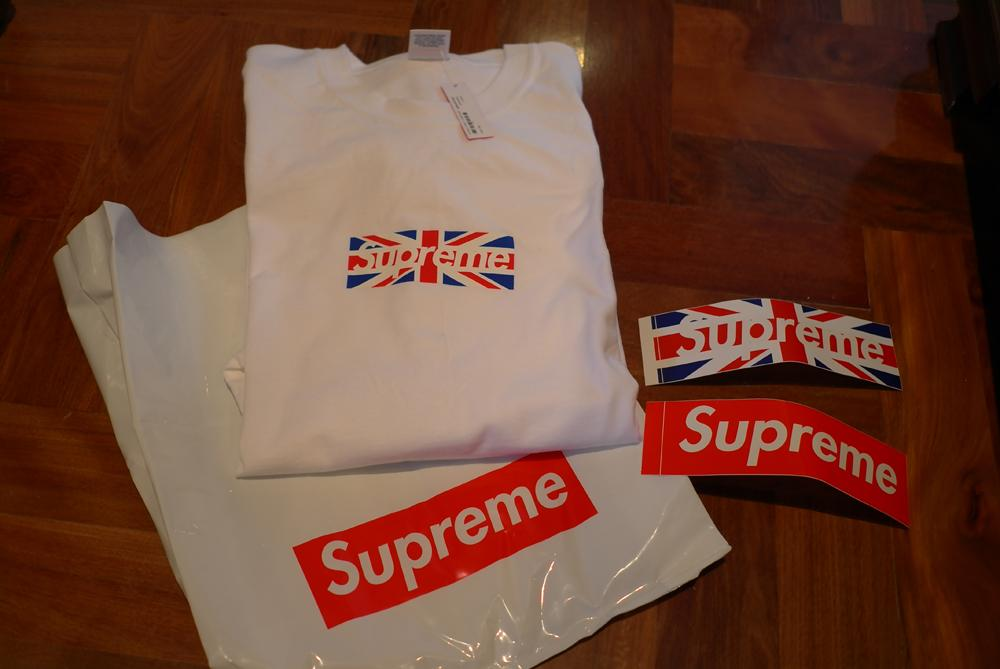flexible: (235, 37, 637, 446), (638, 398, 918, 518), (633, 291, 903, 396)
